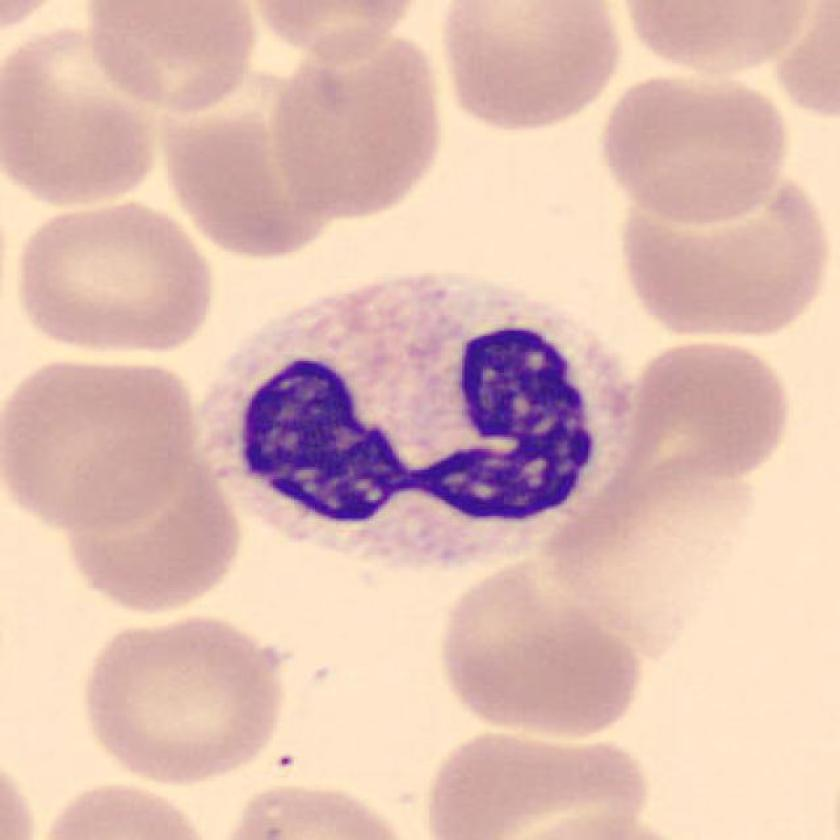neutrophil: (196, 274, 629, 565)
